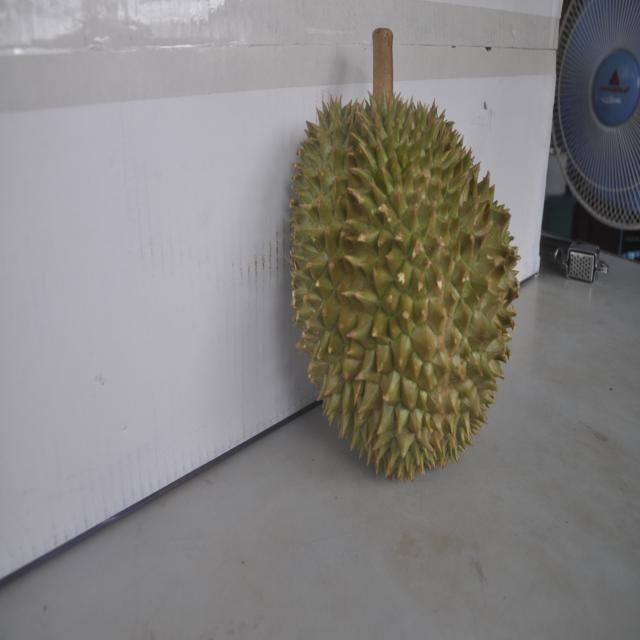mature: (292, 76, 512, 482)
